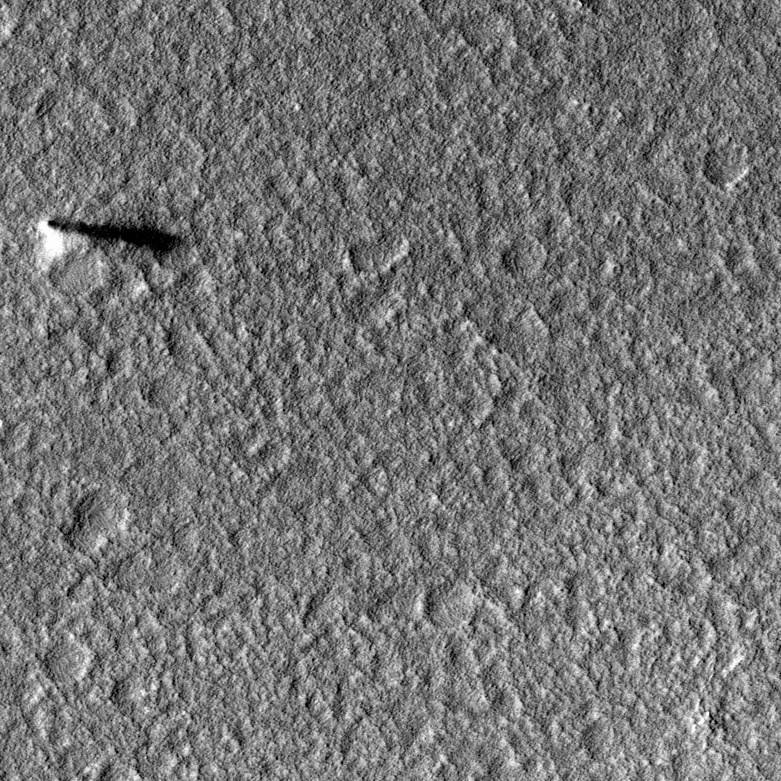dust_devil: (35, 215, 182, 268)
